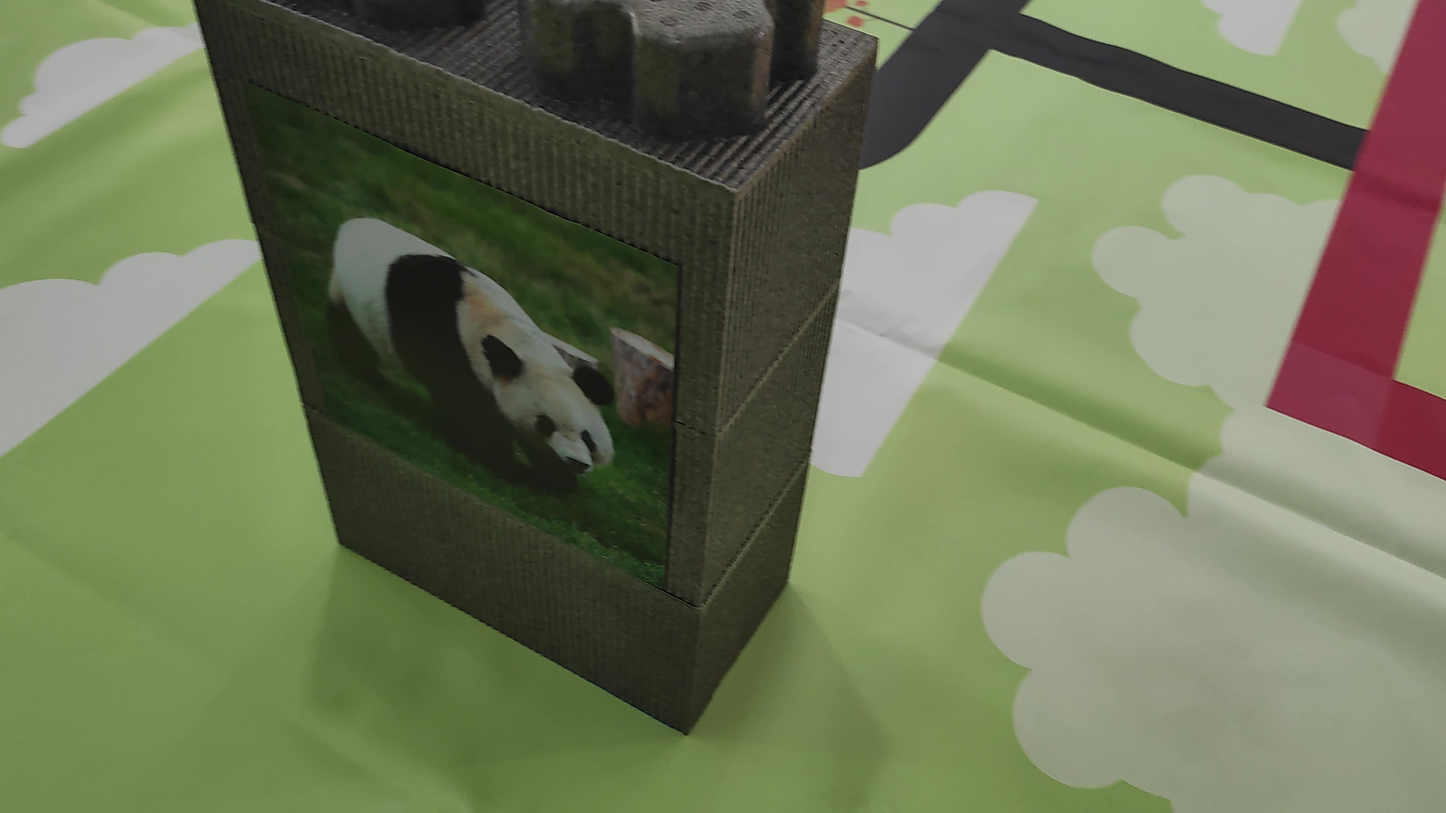panda: (296, 186, 650, 521)
